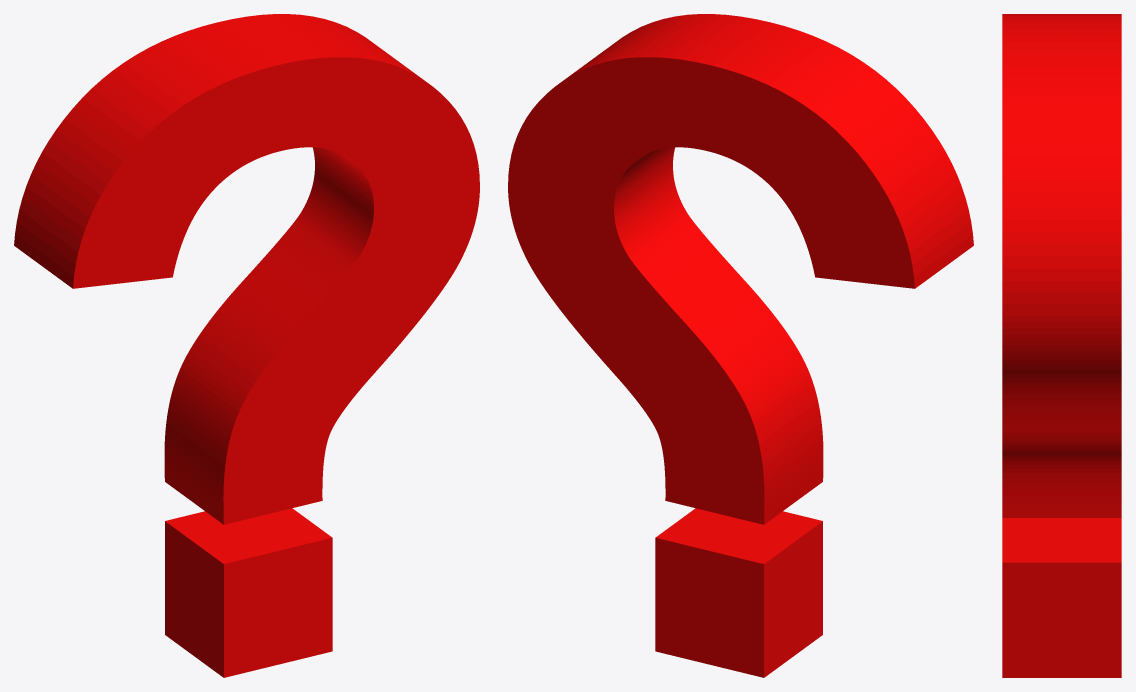
Rendered from questionMark.glb.
3 views of the same model, side by side, from view 1: azimuth 30°, elevation 25°; view 2: azimuth 150°, elevation 25°; view 3: azimuth 270°, elevation 25° (orthographic).
Visible parts, largest first — view 1: Text; view 2: Text; view 3: Text.
Part boxes in pixels (x1,y1,x2,y2): Text: (14, 14, 479, 677); Text: (508, 14, 973, 677); Text: (1002, 14, 1121, 677).
Size of the model in its own units: 2.32 by 3.27 by 0.5833.
